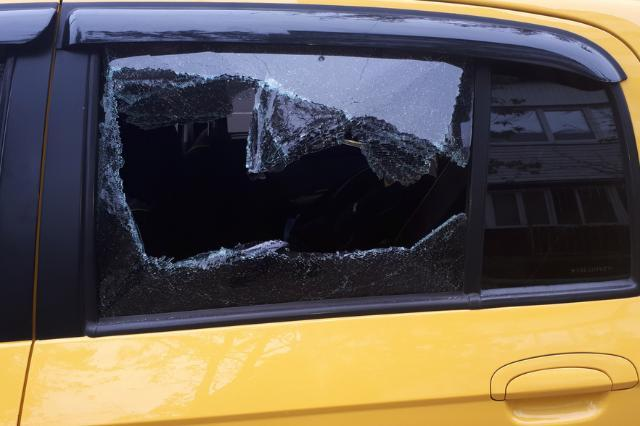Door: (62, 4, 635, 426)
